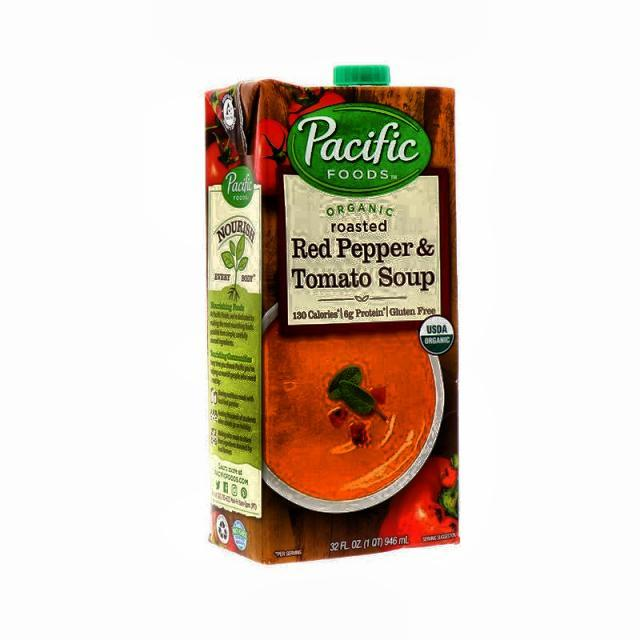cardboard: (204, 78, 459, 564)
